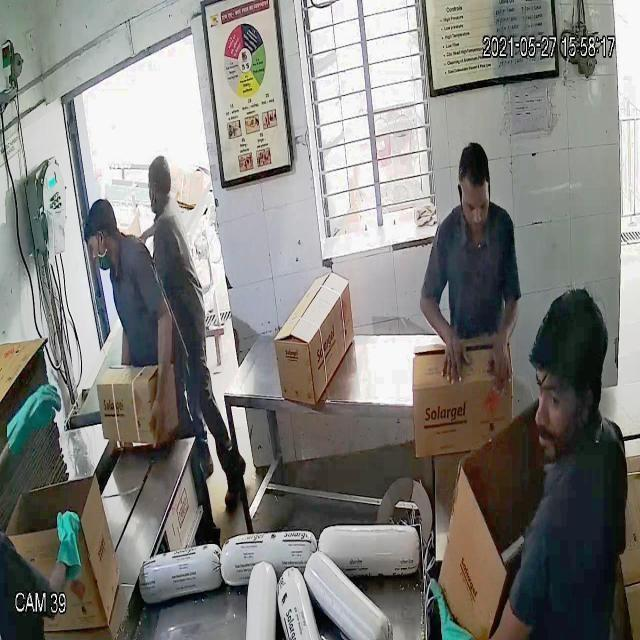apron: (4, 380, 64, 461), (46, 501, 88, 591)
hairnet: (83, 236, 121, 283)
no_apron: (437, 327, 474, 393), (485, 333, 517, 397), (142, 394, 174, 448)
no_gloves: (523, 285, 612, 390), (456, 136, 494, 195), (80, 200, 119, 236)
no_hairnet: (529, 394, 595, 466), (462, 197, 493, 235)
